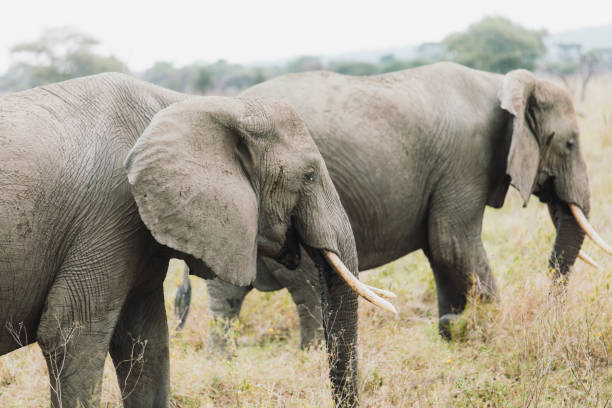africanelephant: (209, 98, 398, 327), (486, 59, 612, 253)
